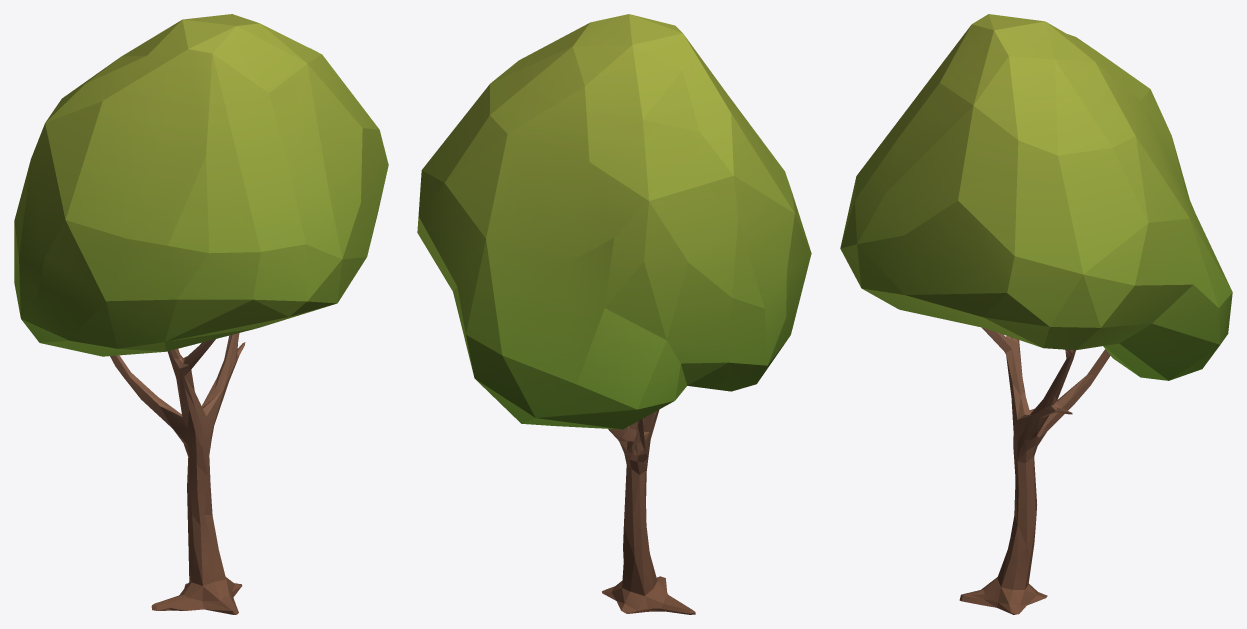
Rendered from Tree_03.fbx.
3 views of the same model, side by side, from view 1: azimuth 30°, elevation 25°; view 2: azimuth 150°, elevation 25°; view 3: azimuth 270°, elevation 25° (orthographic).
Visible parts, largest first — view 1: Tree_03; view 2: Tree_03; view 3: Tree_03.
Part boxes in pixels (x1=…): Tree_03: x1=14, y1=14, x2=388, y2=614; Tree_03: x1=417, y1=14, x2=811, y2=614; Tree_03: x1=840, y1=14, x2=1232, y2=614.
Size of the model in its own units: 452 by 722 by 442.
